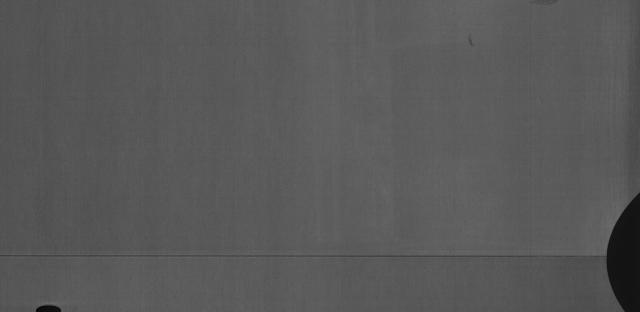punching_hole: (29, 299, 62, 312)
welding_line: (0, 244, 613, 264)
